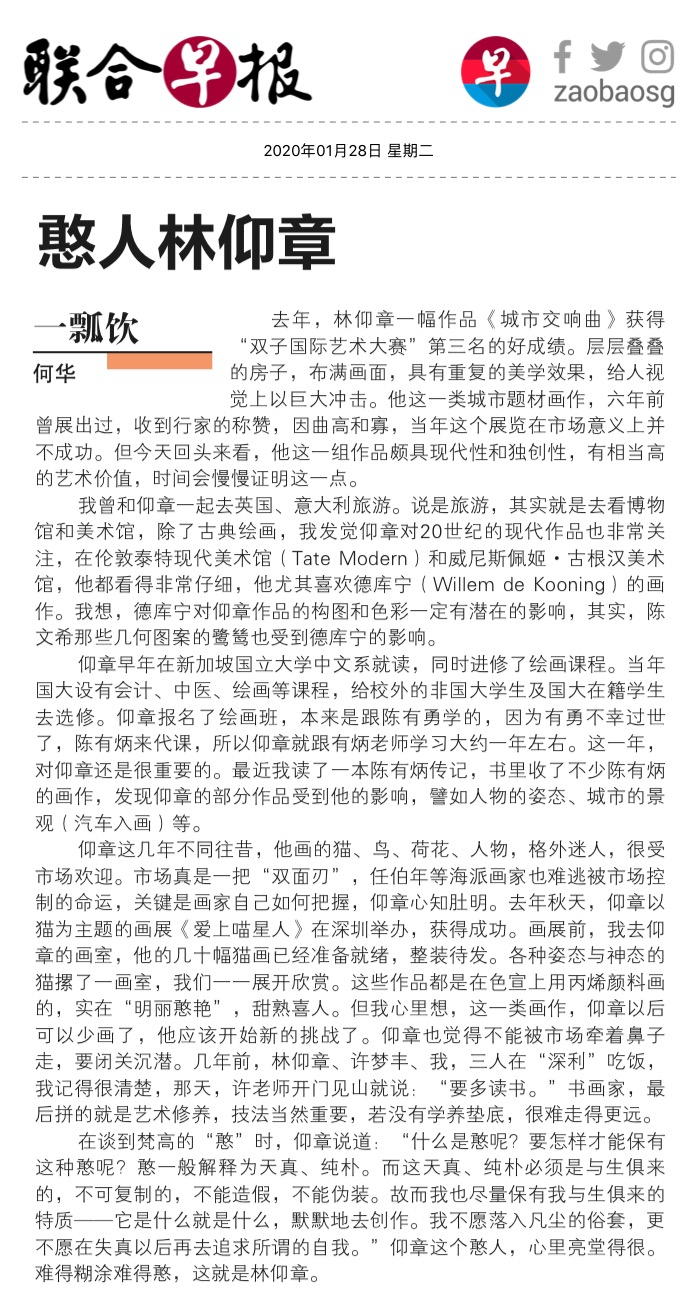heading_test: (27, 203, 347, 284)
